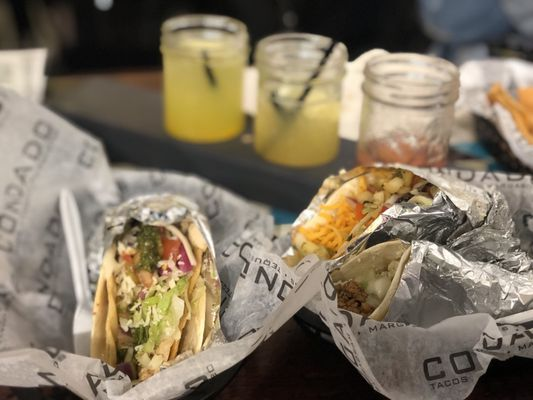pizza: (252, 32, 344, 169), (356, 53, 460, 169), (160, 13, 251, 144)
soup: (88, 195, 223, 381)
